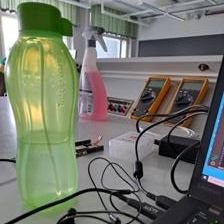bottle: (5, 2, 79, 214)
